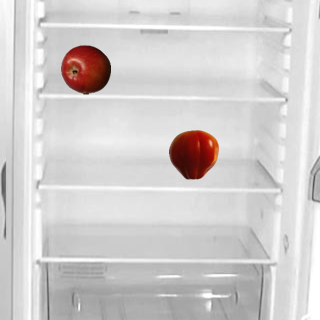Apple Braeburn: (60, 44, 110, 94)
Tomato 1: (168, 129, 218, 179)
